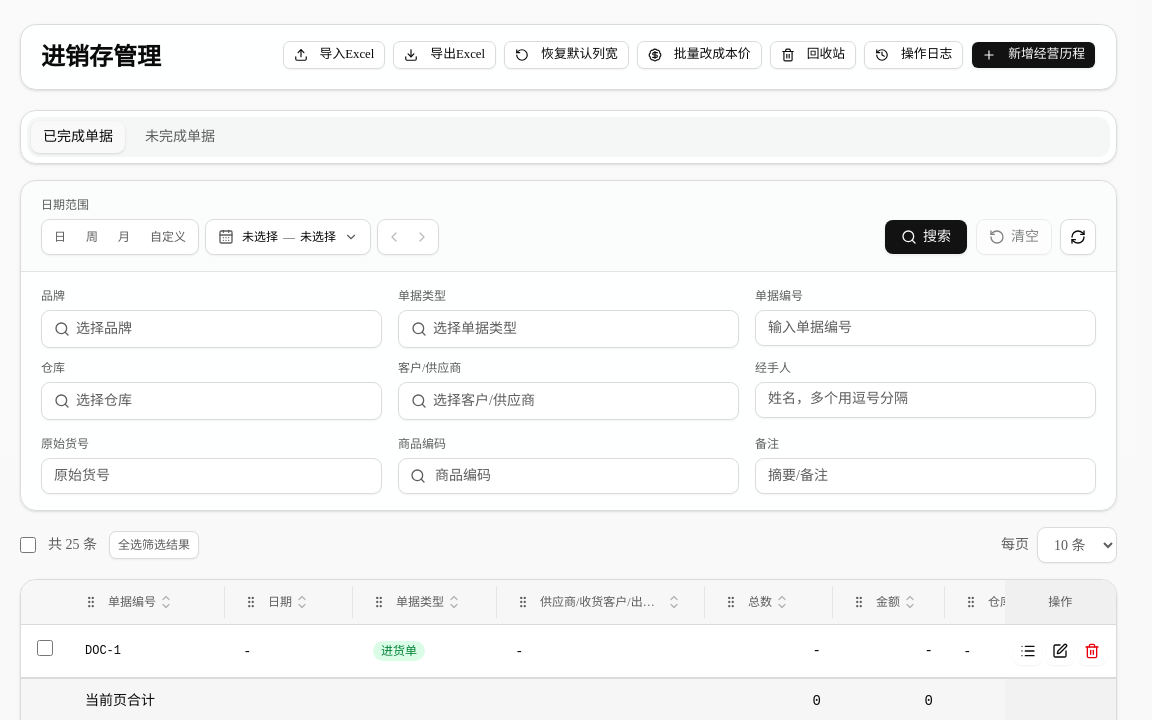
Test case: selecting and deselecting the current page does not discard another page
Check: the text "DOC-1" is shown, box [85,643,121,659]
Check: the button "全选筛选结果" is enabled, box [109,531,199,559]
Click the checkbox named "全选当前页单据" at (28, 545), box [20,537,36,553]
(page scrolled)
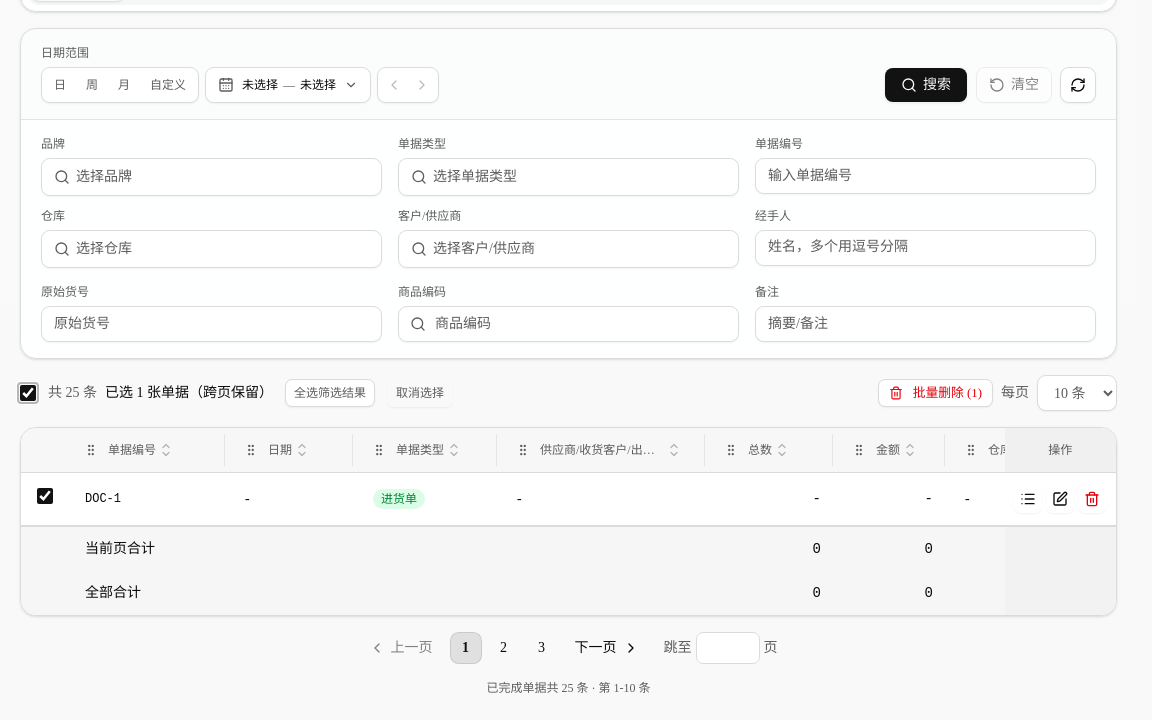
Click the button with aria-label "Go to next page" at (606, 648), box [564,632,648,664]
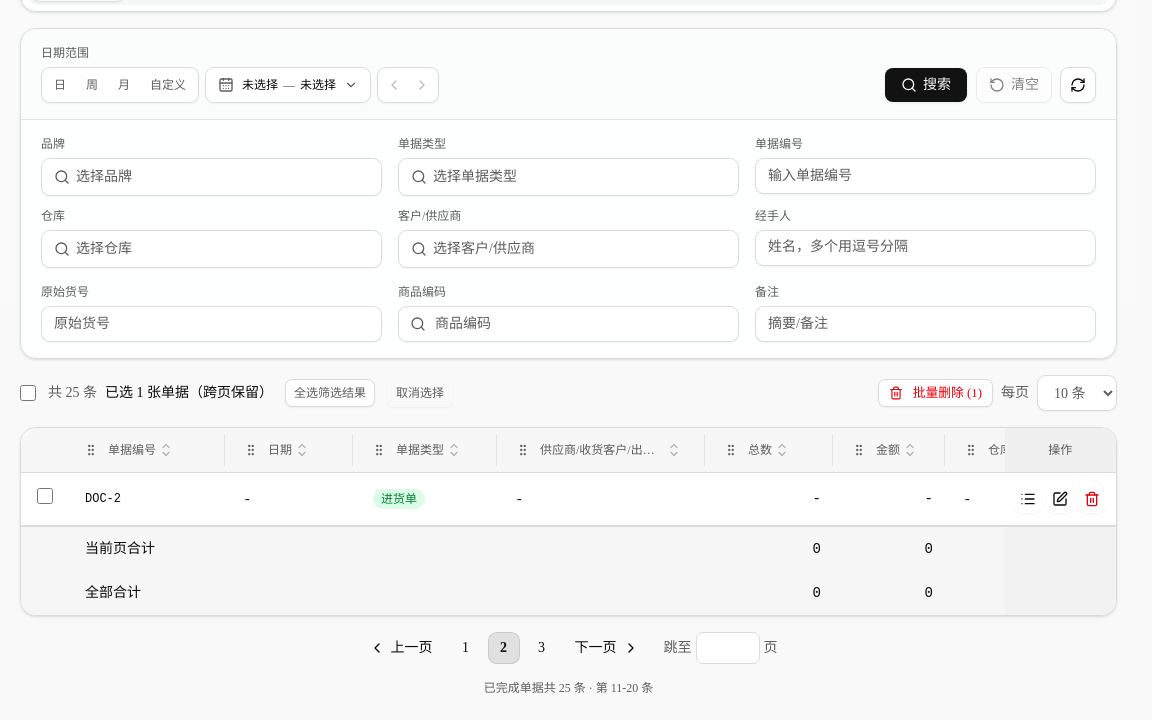
Check: the text "DOC-2" is shown, box [85,491,121,507]
Click the checkbox named "全选当前页单据" at (28, 393), box [20,385,36,401]
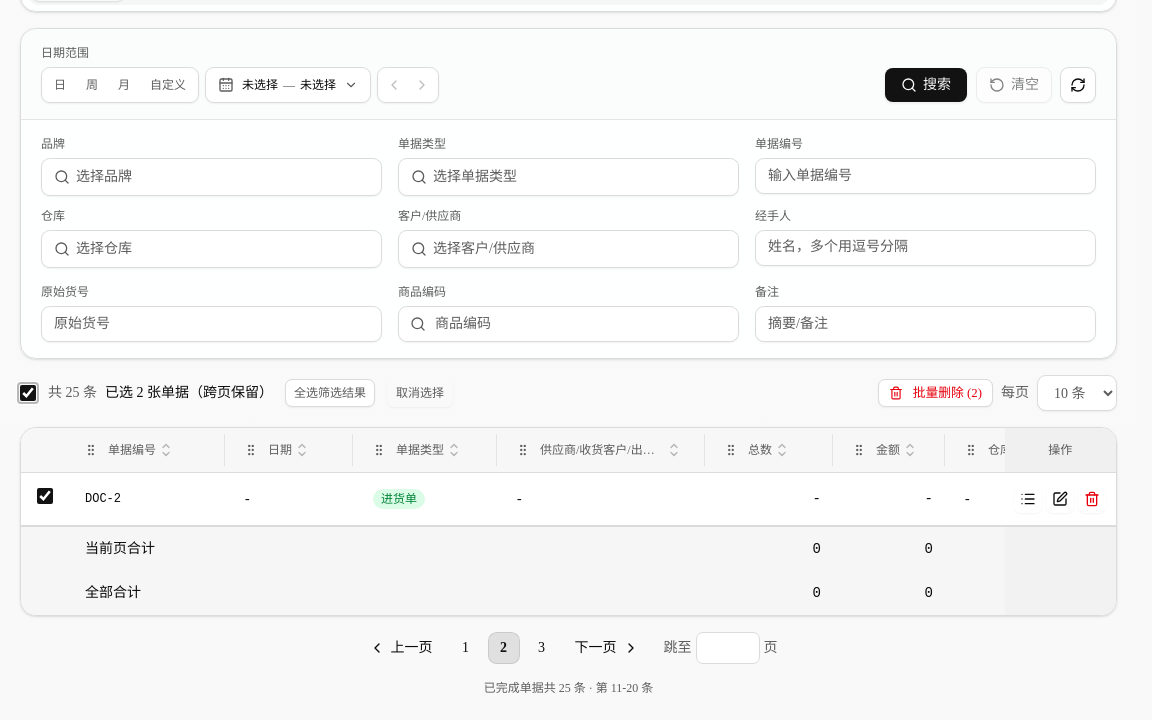
Check: the button "批量删除 (2)" is shown, box [878,379,993,407]
Click the checkbox named "全选当前页单据" at (28, 393), box [20,385,36,401]
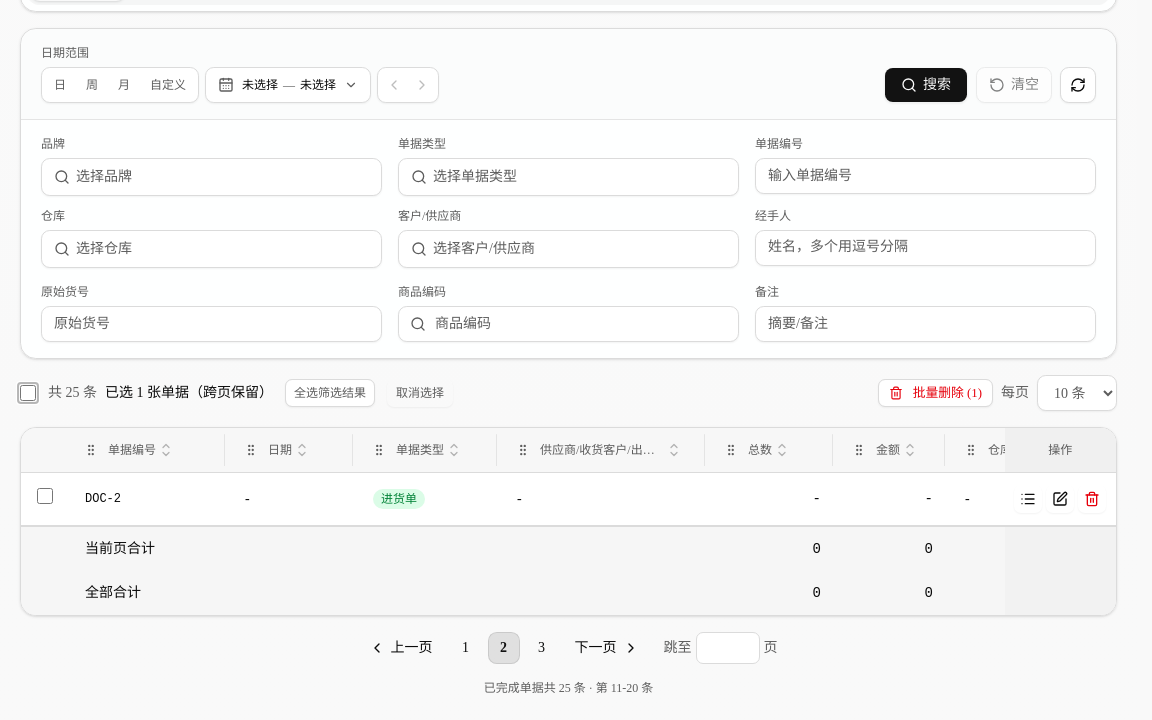
Check: the button "批量删除 (1)" is shown, box [878,379,993,407]
Click the button with aria-label "Go to previous page" at (402, 648), box [360,632,444,664]
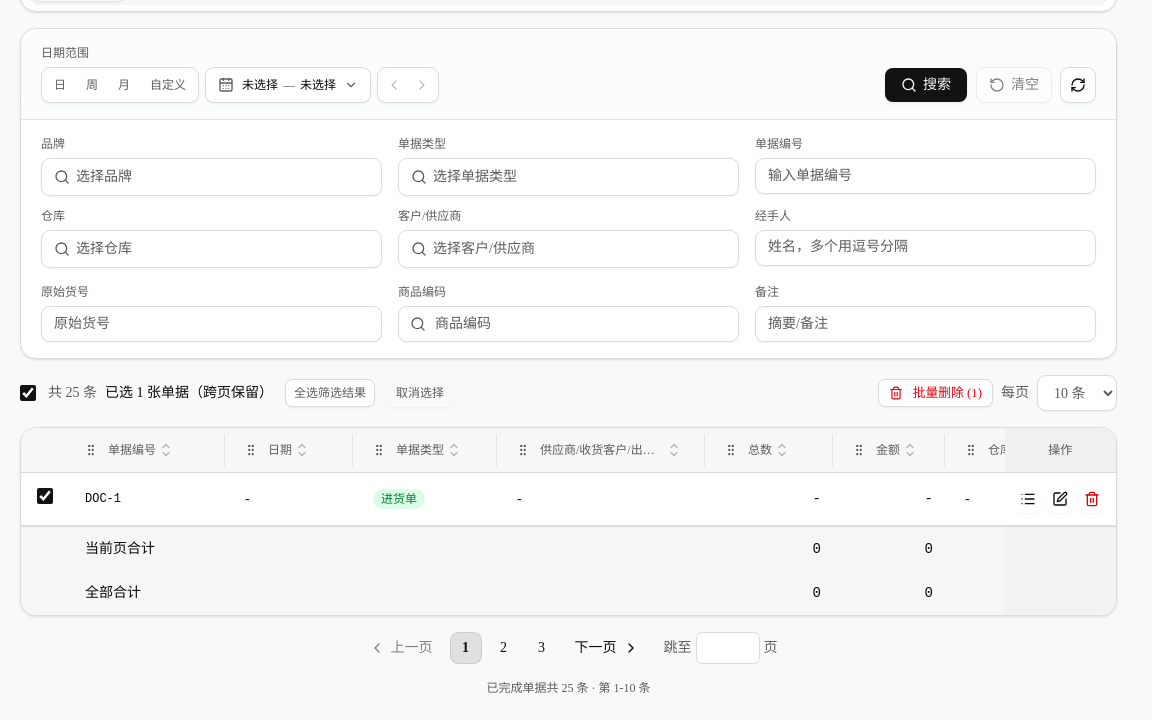
Check: the text "DOC-1" is shown, box [85,491,121,507]
Check: the checkbox named "选择单据 DOC-1" is checked, box [37,488,53,504]
